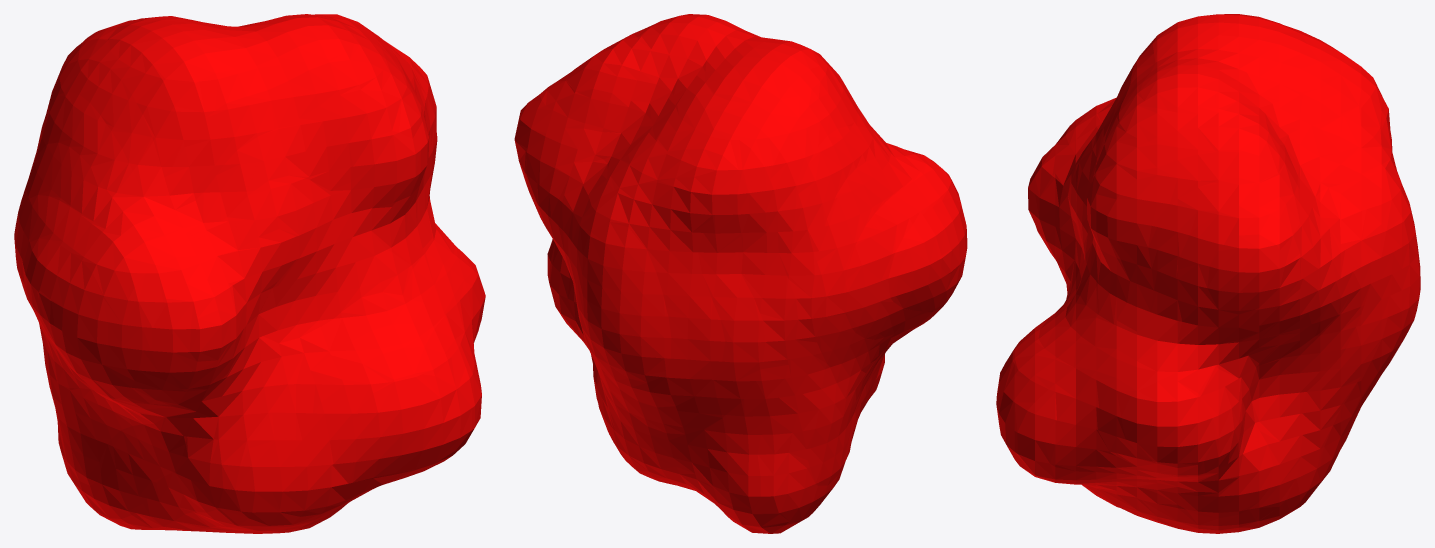
Rendered from glpE_coarse.dae.
The picture shows the model from 3 angles, left to right: view 1: azimuth 30°, elevation 25°; view 2: azimuth 150°, elevation 25°; view 3: azimuth 270°, elevation 25°; orthographic projection. The views are drawn at different scales.
Parts seen in each view (by area): view 1: glpE; view 2: glpE; view 3: glpE.
Boxes of the visible parts, x1,y1,x2,y2 form: glpE: (14, 14, 485, 533); glpE: (514, 14, 967, 533); glpE: (996, 14, 1420, 533).
Bounding box in the file's own units: 36.6 × 40.79 × 32.83.
